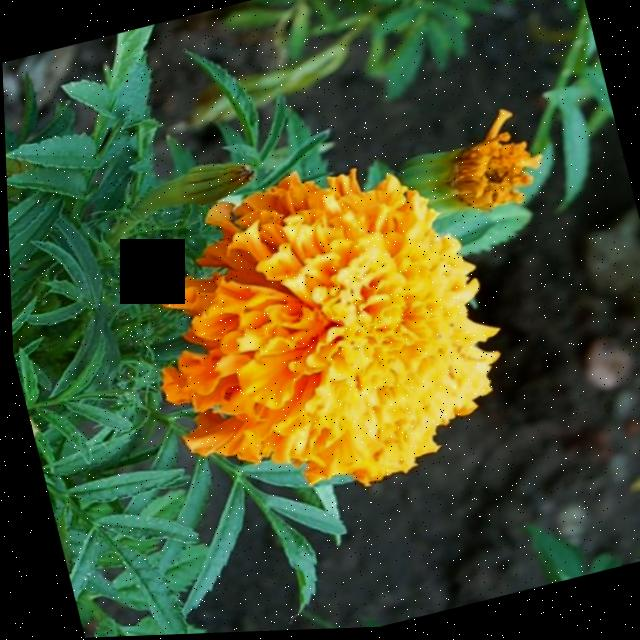marigold: (10, 50, 639, 596)
